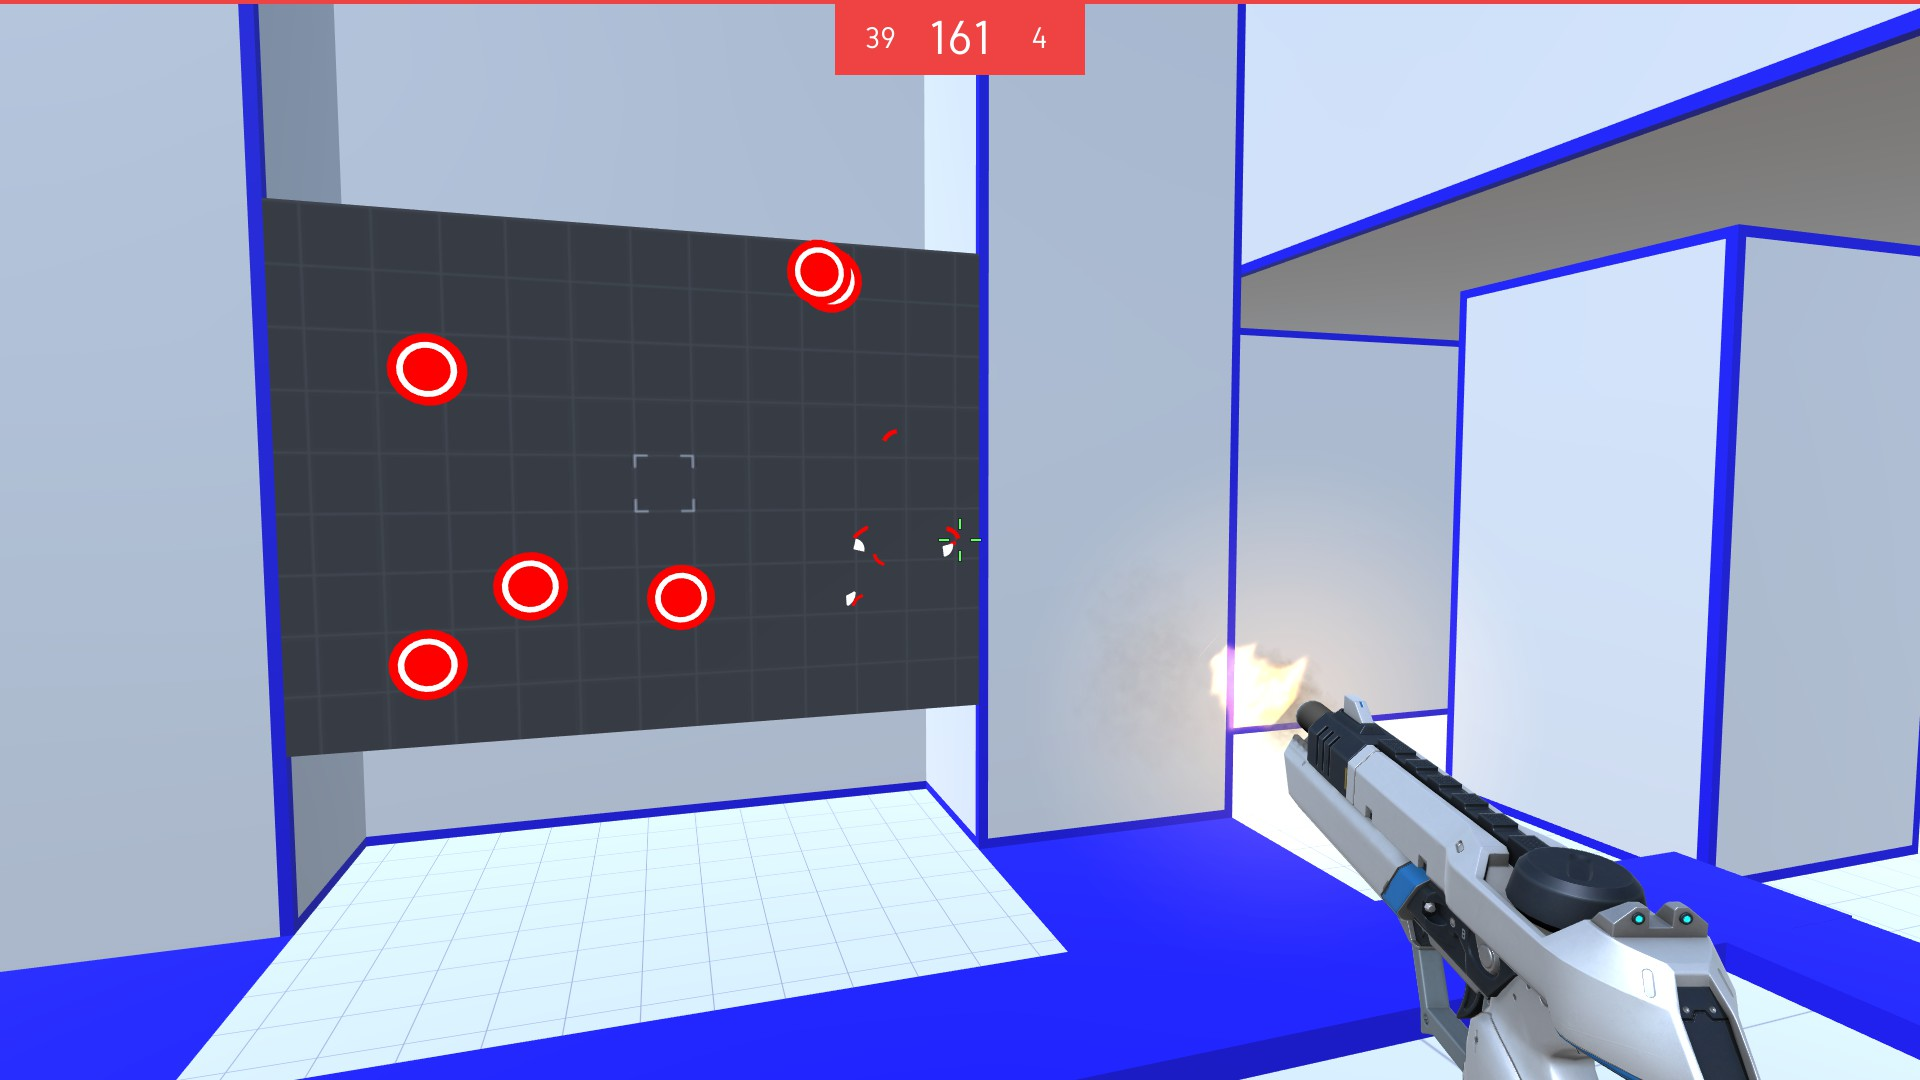target: (378, 332, 471, 407), (484, 549, 572, 624), (382, 630, 472, 703), (644, 562, 723, 633), (781, 239, 855, 305)
